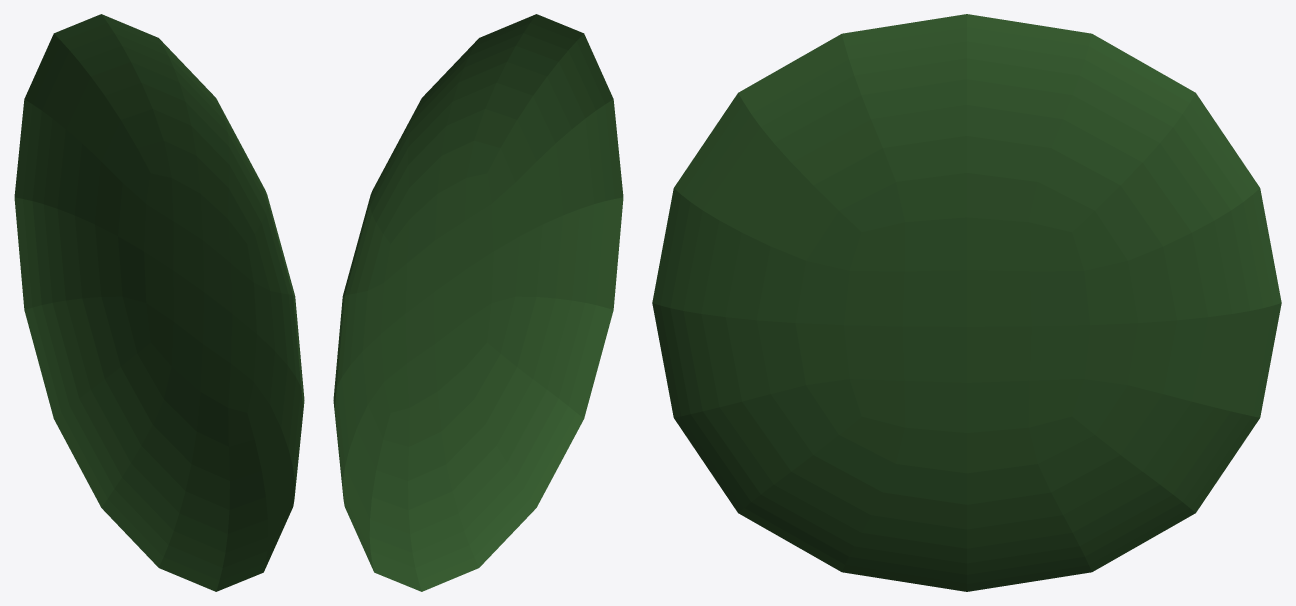
Rendered from CrtMonitor.glb.
The picture shows the model from 3 angles, left to right: view 1: azimuth 30°, elevation 25°; view 2: azimuth 150°, elevation 25°; view 3: azimuth 270°, elevation 25°; orthographic projection. The views are drawn at different scales.
Parts seen in each view (by area): view 1: Monitor; view 2: Monitor; view 3: Monitor.
Part boxes in pixels (x1,y1,x2,y2): Monitor: [14, 14, 304, 591]; Monitor: [333, 14, 623, 591]; Monitor: [652, 14, 1281, 591].
Bounding box in the file's own units: 0.1092 × 1.23 × 1.21.
